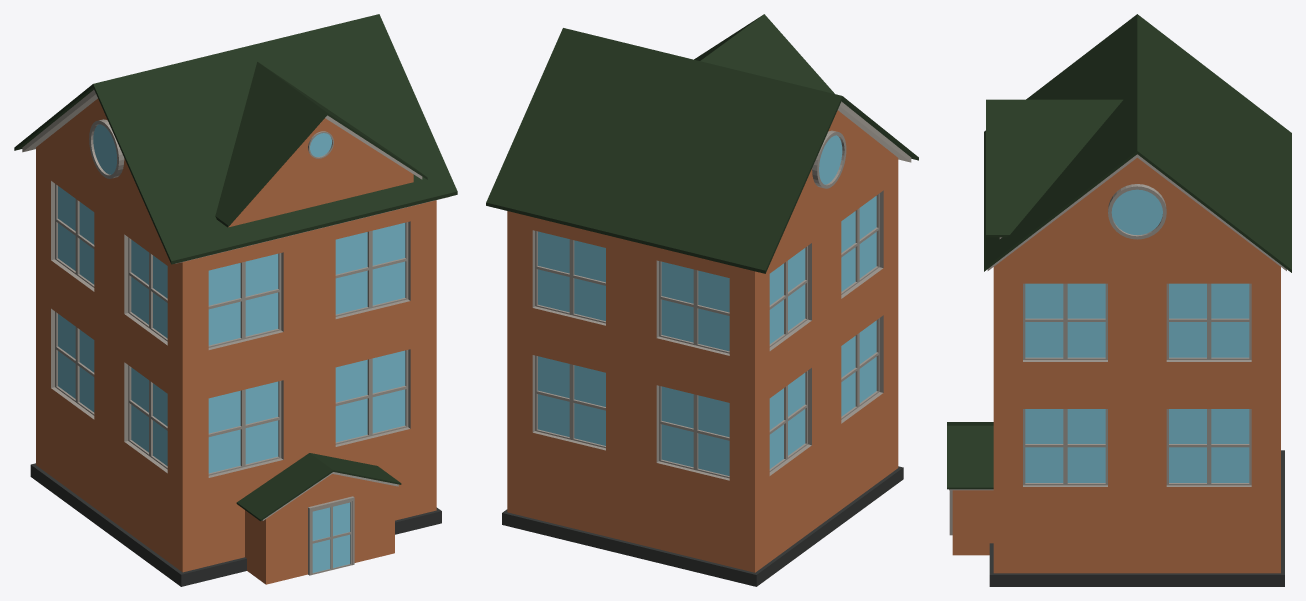
File: SM_Guildhall_01_A.gltf
3 views of the same model, side by side, from view 1: azimuth 30°, elevation 25°; view 2: azimuth 150°, elevation 25°; view 3: azimuth 270°, elevation 25° (orthographic). The views are drawn at different scales.
Parts seen in each view (by area): view 1: SM_Guildhall_01_A; view 2: SM_Guildhall_01_A; view 3: SM_Guildhall_01_A.
Boxes of the visible parts, x1,y1,x2,y2 form: SM_Guildhall_01_A: (14,14,457,586); SM_Guildhall_01_A: (486,14,918,586); SM_Guildhall_01_A: (947,14,1291,586).
Bounding box in the file's own units: 2.49 × 3.75 × 2.65.
